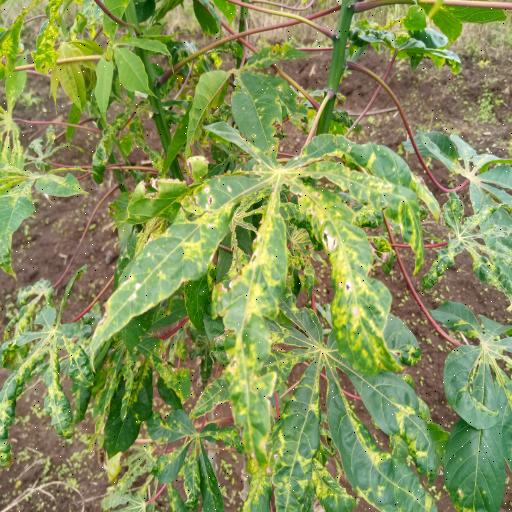Cassava_Mosaic: (93, 137, 409, 444), (280, 304, 456, 512), (0, 318, 102, 454), (443, 194, 512, 306)
